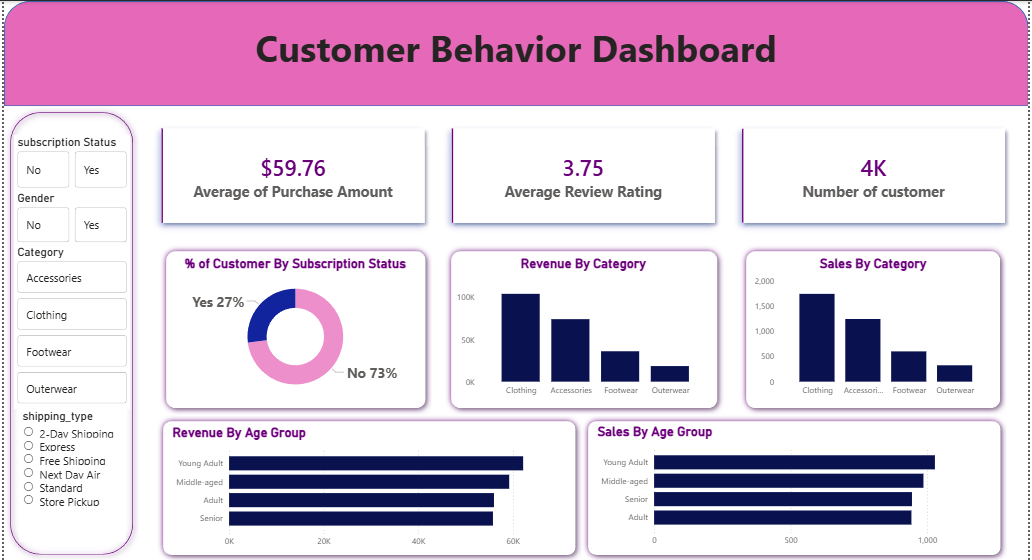

This screenshot's page, from the dashboard's own definition file:
{"tool":"powerbi","page":{"name":"Page 1","canvas":[1500,820],"ordinal":0},"visuals":[{"type":"cardVisual","fields":{"Data":["public customer.Average of Purchase Amount","public customer.Average Review Rating","public customer.Number of customer"]},"box":[198,154,1302,204],"z":0},{"type":"shape","box":[646,358,408,248],"z":1000},{"type":"shape","box":[0,0,1500,154],"z":2000},{"type":"shape","box":[228,358,398,248],"z":3000},{"type":"textbox","box":[0,26,1500,128],"z":4000},{"type":"shape","box":[1078,358,390,248],"z":5000},{"type":"donutChart","title":"% of Customer By Subscription Status ","fields":{"Category":["public customer.subscription_status"],"Y":["CountNonNull(public customer.customer_id)"]},"box":[242,374,370,214],"z":6000},{"type":"clusteredColumnChart","title":"Revenue By Category","fields":{"Y":["Sum(public customer.purchase_amount)"],"Category":["public customer.category"]},"box":[658,374,382,214],"z":7000},{"type":"clusteredColumnChart","title":"Sales By Category","fields":{"Y":["CountNonNull(public customer.customer_id)"],"Category":["public customer.category"]},"box":[1094,374,358,214],"z":8000},{"type":"shape","box":[0,154,198,666],"z":9000},{"type":"advancedSlicerVisual","fields":{"Values":["public customer.subscription_status"]},"box":[14,196,170,82],"z":10000},{"type":"advancedSlicerVisual","fields":{"Values":["public customer.subscription_status"]},"box":[14,278,170,80],"z":11000},{"type":"advancedSlicerVisual","fields":{"Values":["public customer.category"]},"box":[14,358,170,240],"z":12000},{"type":"listSlicer","fields":{"Values":["public customer.shipping_type"]},"box":[22,598,156,194],"z":13000},{"type":"shape","box":[846,606,622,214],"z":14000},{"type":"shape","box":[224,606,622,214],"z":15000,"group":"g1"},{"type":"clusteredBarChart","title":"Sales By Age Group","fields":{"Y":["CountNonNull(public customer.customer_id)"],"Category":["public customer.age_group"]},"box":[864,620,588,188],"z":16000},{"type":"clusteredBarChart","title":"Revenue By Age Group","fields":{"Y":["Sum(public customer.purchase_amount)"],"Category":["public customer.age_group"]},"box":[242,620,588,188],"z":17000,"group":"g1"},{"type":"group","id":"g1","title":"Group 1","box":[224,606,622,214],"z":17001}]}

Visuals, with their boxes in screenshot pixels (x1, y1, x2, y2), scaled from the page's 1500x820 canvas onto the 1032x560 screenshot:
cardVisual - public customer.Average of Purchase Amount x public customer.Average Review Rating: (136,105,1031,244)
shape: (444,244,725,414)
shape: (0,0,1031,105)
shape: (157,244,431,414)
textbox: (0,18,1031,105)
shape: (742,244,1010,414)
"% of Customer By Subscription Status " donutChart: (166,255,421,402)
"Revenue By Category" clusteredColumnChart: (453,255,716,402)
"Sales By Category" clusteredColumnChart: (753,255,999,402)
shape: (0,105,136,559)
advancedSlicerVisual - public customer.subscription_status: (10,134,127,190)
advancedSlicerVisual - public customer.subscription_status: (10,190,127,244)
advancedSlicerVisual - public customer.category: (10,244,127,408)
listSlicer - public customer.shipping_type: (15,408,122,541)
shape: (582,414,1010,559)
shape: (154,414,582,559)
"Sales By Age Group" clusteredBarChart: (594,423,999,552)
"Revenue By Age Group" clusteredBarChart: (166,423,571,552)
"Group 1" group: (154,414,582,559)
